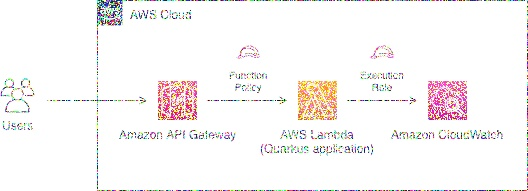API-Gateway: (155, 79, 200, 122)
Cloud Watch: (426, 78, 470, 122)
IAM Role: (234, 41, 266, 63), (366, 41, 397, 62)
Lambda: (297, 81, 339, 123)
Users: (0, 71, 38, 117)
aws: (96, 1, 125, 27)
